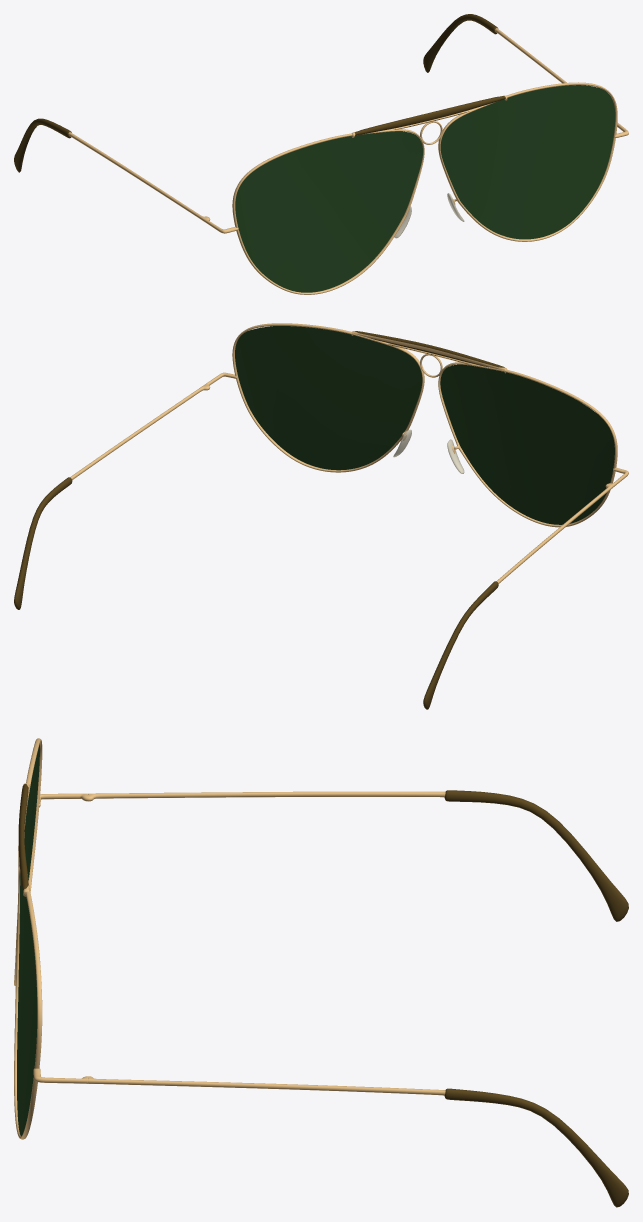
Rendered from glasses.glb.
3 views of the same model, one above another, from view 1: azimuth 30°, elevation 25°; view 2: azimuth 150°, elevation 25°; view 3: azimuth 270°, elevation 25° (orthographic). The views are drawn at different scales.
Parts seen in each view (by area): view 1: Cube.008, Cube.006, Cube.009, Cube.003; view 2: Cube.008, Cube.009, Cube.006, Cube.003; view 3: Cube.009, Cube.008, Cube.006, Cube.003.
Boxes of the visible parts, left/top/right/bottom form: Cube.008: left=235, top=85, right=615, bottom=292; Cube.006: left=232, top=82, right=617, bottom=294; Cube.009: left=14, top=14, right=628, bottom=233; Cube.003: left=351, top=95, right=507, bottom=137; Cube.008: left=235, top=326, right=614, bottom=524; Cube.009: left=14, top=372, right=628, bottom=709; Cube.006: left=232, top=323, right=617, bottom=527; Cube.003: left=351, top=331, right=507, bottom=373; Cube.009: left=33, top=790, right=628, bottom=1207; Cube.008: left=17, top=743, right=39, bottom=1136; Cube.006: left=14, top=738, right=42, bottom=1139; Cube.003: left=18, top=783, right=29, bottom=896.
Bounding box in the file's own units: 1.32 × 0.4725 × 1.13.
